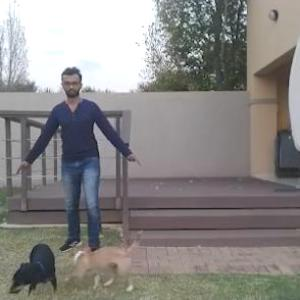land: (26, 68, 140, 264)
